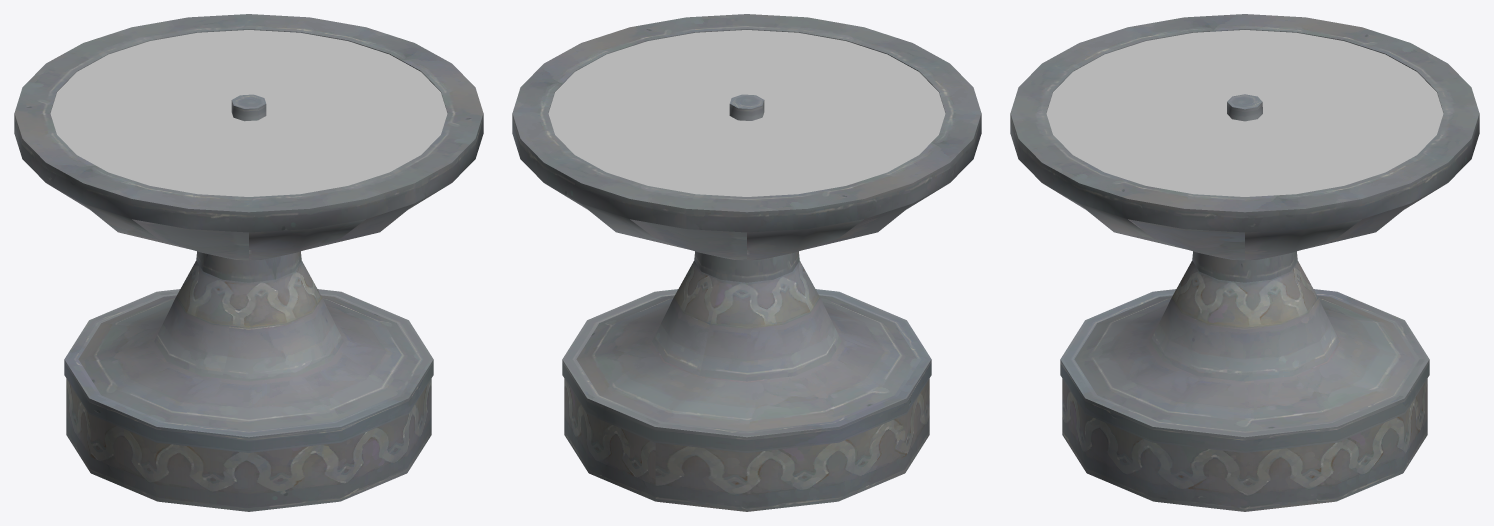
The model's file is Homeworld_Exterior_Common_Thing_Basin_01_Vo.fbx.
3 renders of one model, left to right at view 1: azimuth 30°, elevation 25°; view 2: azimuth 150°, elevation 25°; view 3: azimuth 270°, elevation 25°, orthographic.
Parts seen in each view (by area): view 1: Area_MdBuild_Fountain01Dry_Vo, Plane003; view 2: Area_MdBuild_Fountain01Dry_Vo, Plane003; view 3: Area_MdBuild_Fountain01Dry_Vo, Plane003.
Boxes of the visible parts, x1=… form: Area_MdBuild_Fountain01Dry_Vo: x1=14, y1=14, x2=483, y2=511; Plane003: x1=50, y1=30, x2=447, y2=196; Area_MdBuild_Fountain01Dry_Vo: x1=512, y1=14, x2=981, y2=511; Plane003: x1=548, y1=30, x2=945, y2=196; Area_MdBuild_Fountain01Dry_Vo: x1=1010, y1=14, x2=1479, y2=511; Plane003: x1=1046, y1=30, x2=1443, y2=196.
Size of the model in its own units: 1.49 by 1.17 by 1.49.
